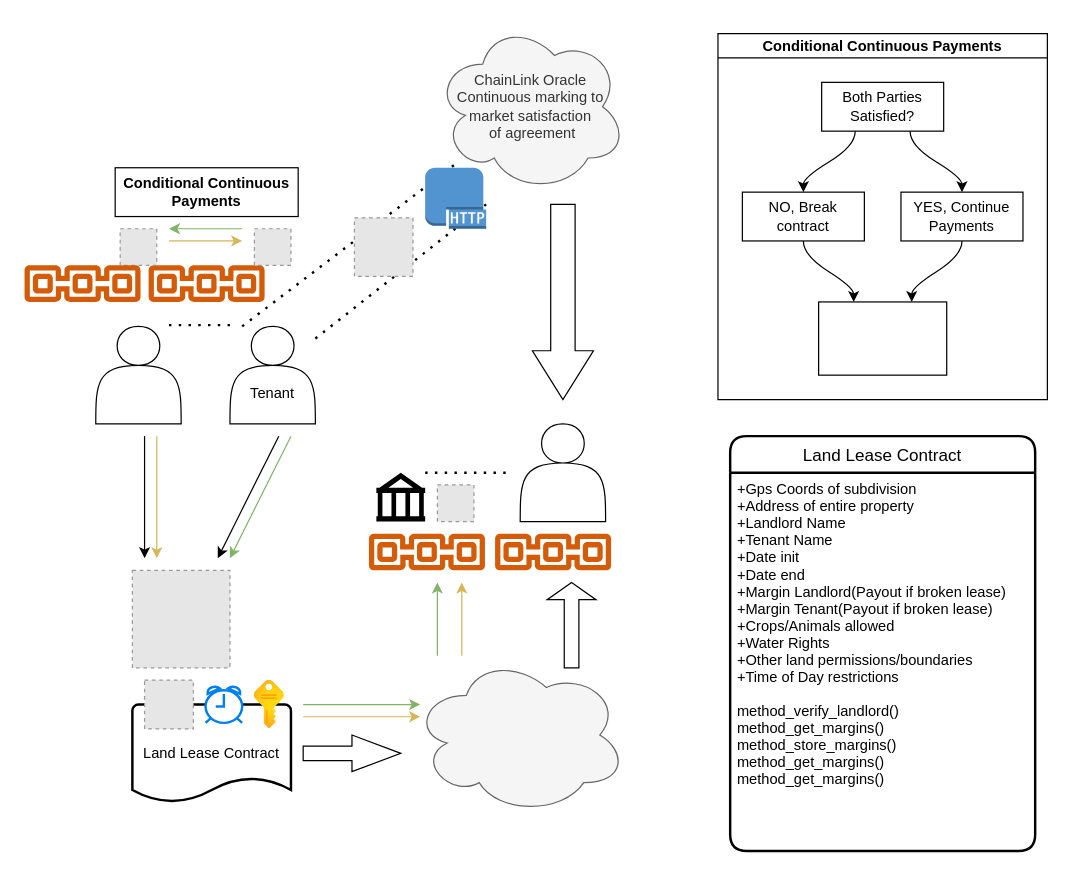
Image size: 1070x874. Some labels were removed from this diagram. Grey dashed boxes stand in for pictures. The shapes that lost their labels are listed below. From the top down, each one's centre as x and y in pixels, then its label:
At (x=882, y=338): "Deposit cancelation fee or continuous payment".
At (x=138, y=374): "Landlord".
At (x=562, y=472): "smart contract".
At (x=519, y=734): "ChainLink Oracle Verify Initial Contract".
